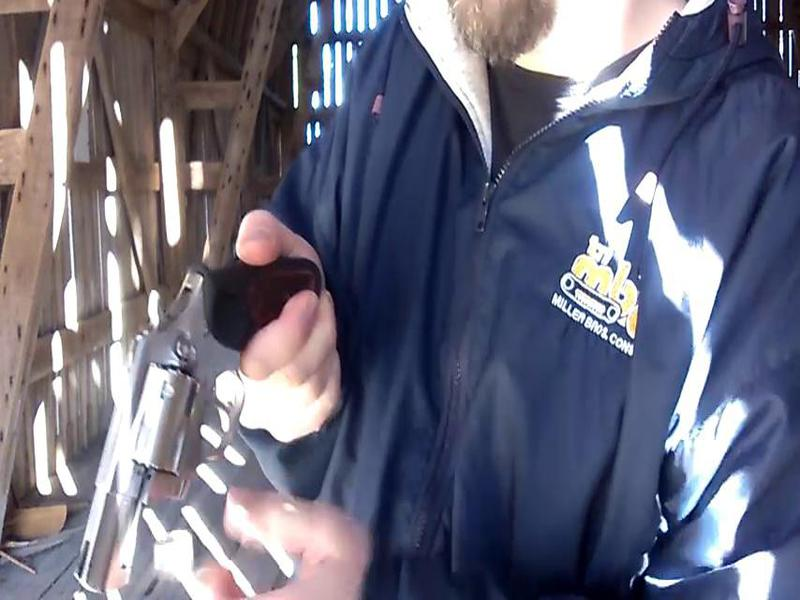Revolver: (62, 260, 247, 594)
